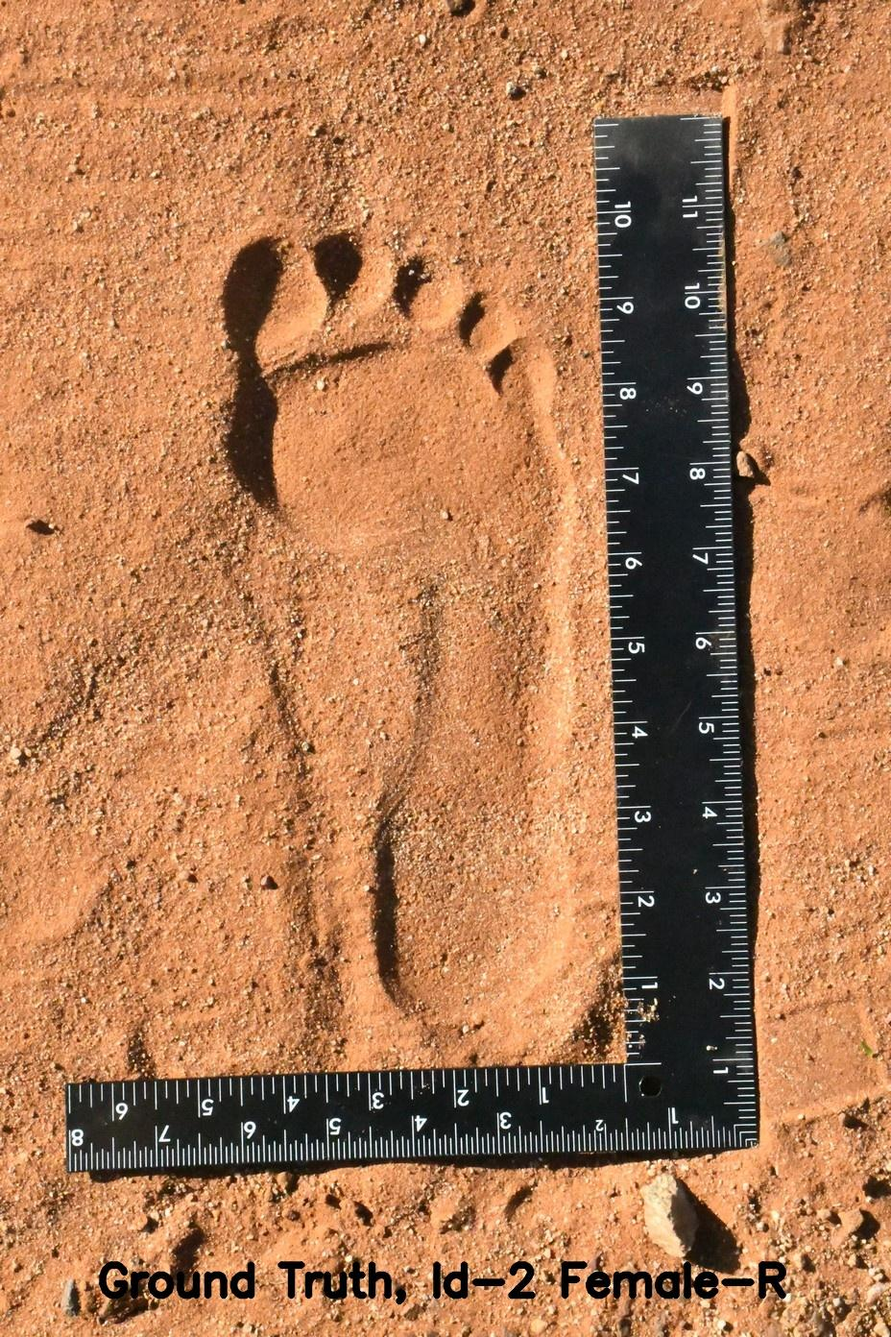human_foot_print: (189, 177, 599, 1056)
